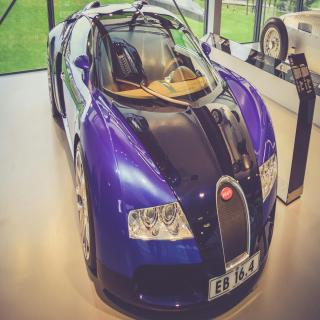Normal_vehicle: (44, 2, 275, 319), (256, 0, 320, 87)
